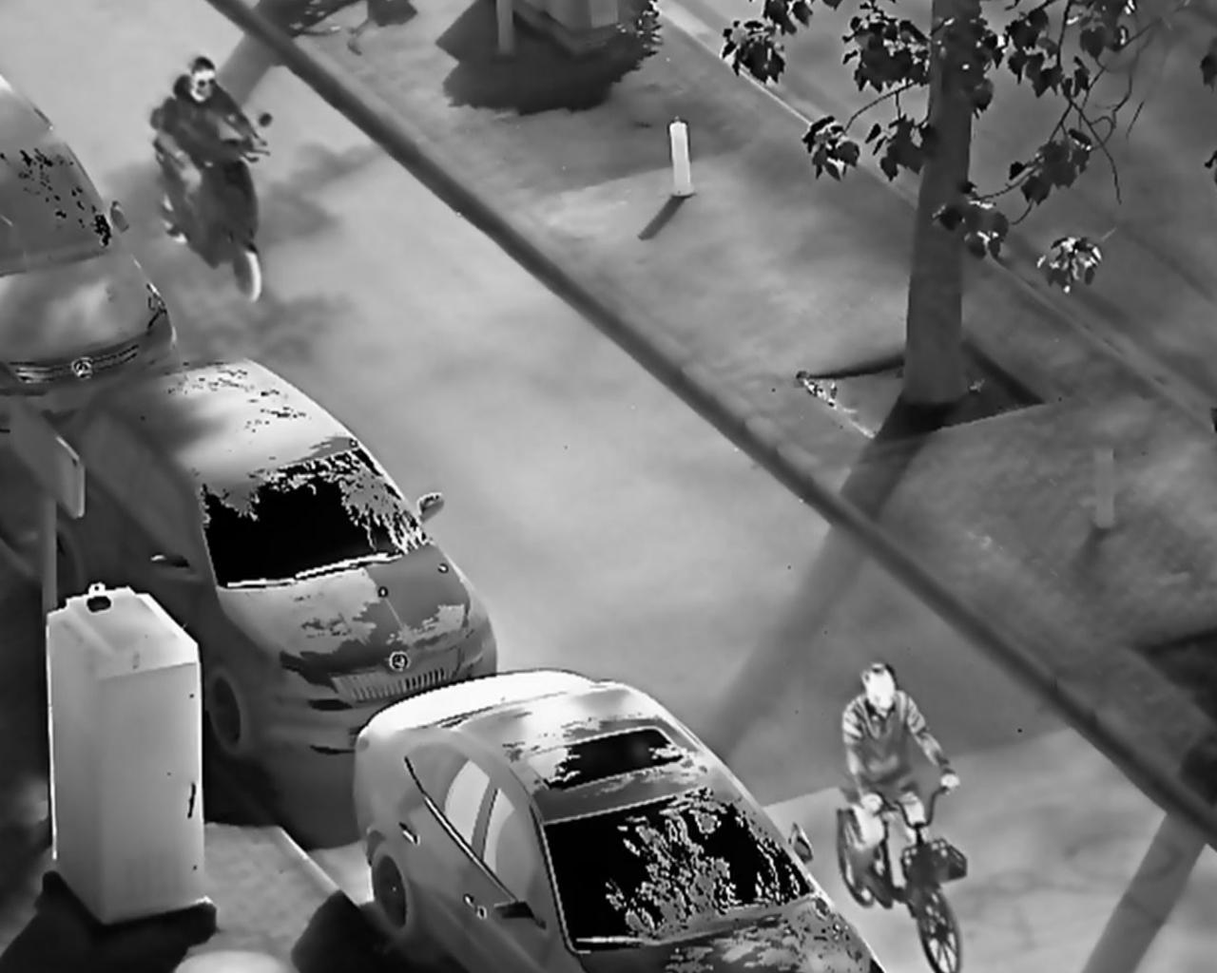person: (838, 659, 964, 908), (163, 52, 271, 225)
